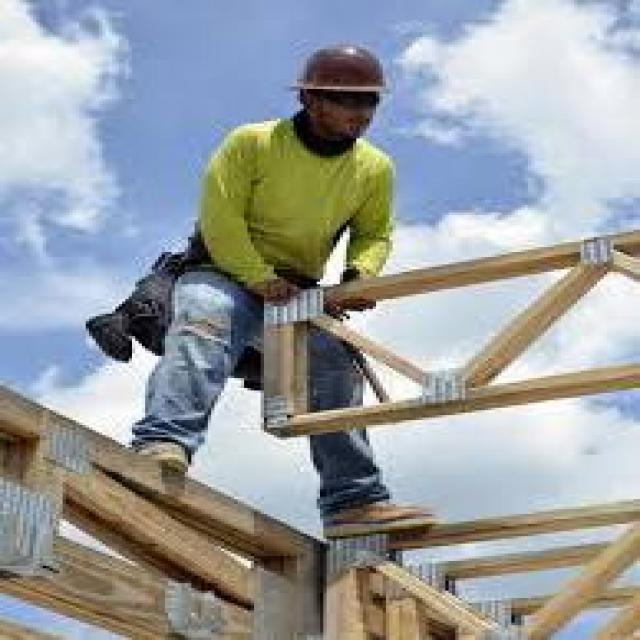Safety-Helmet: (274, 37, 402, 106)
